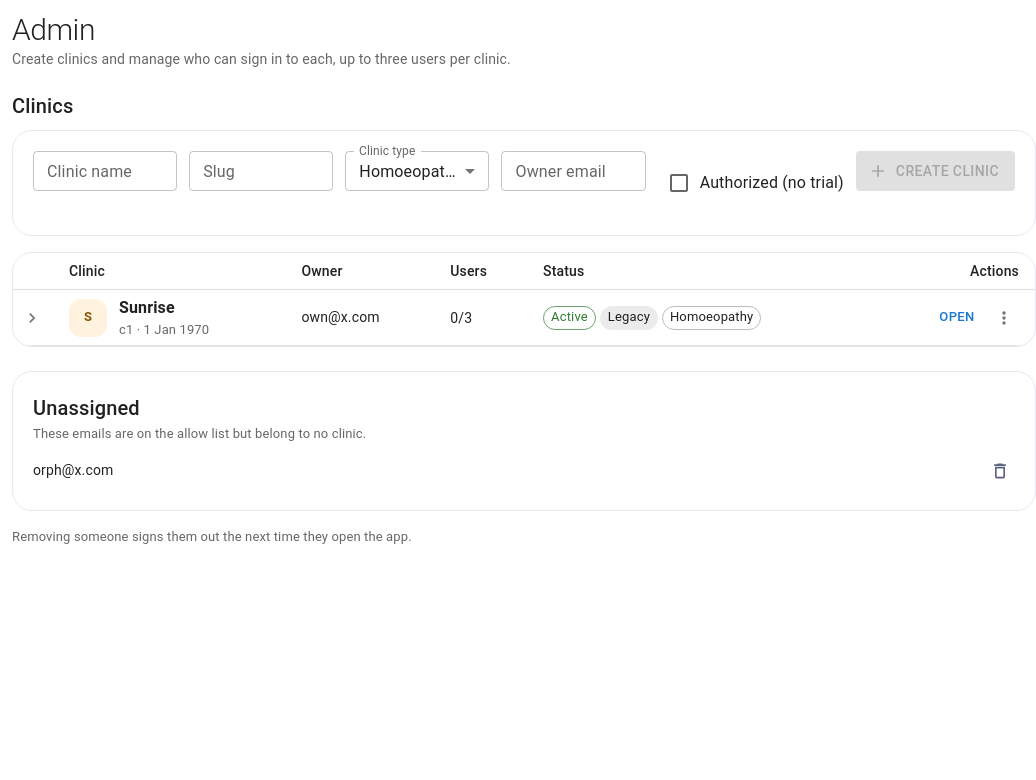
adding an orphan email to a clinic points to Unassigned
The width and height of the screenshot is (1036, 780).
Click the button named "Show users of Sunrise" at x=32, y=318, box [17, 303, 47, 333]
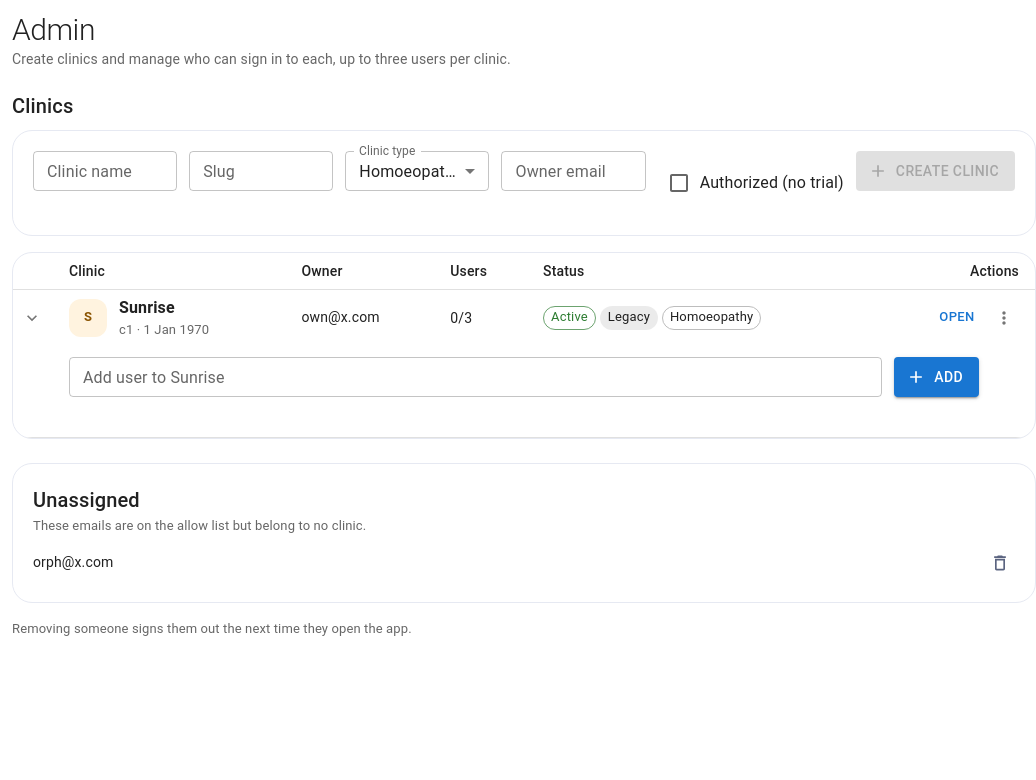
Type "orph@x.com" into the field labelled "Add user to Sunrise" at x=476, y=377, box [69, 357, 882, 397]
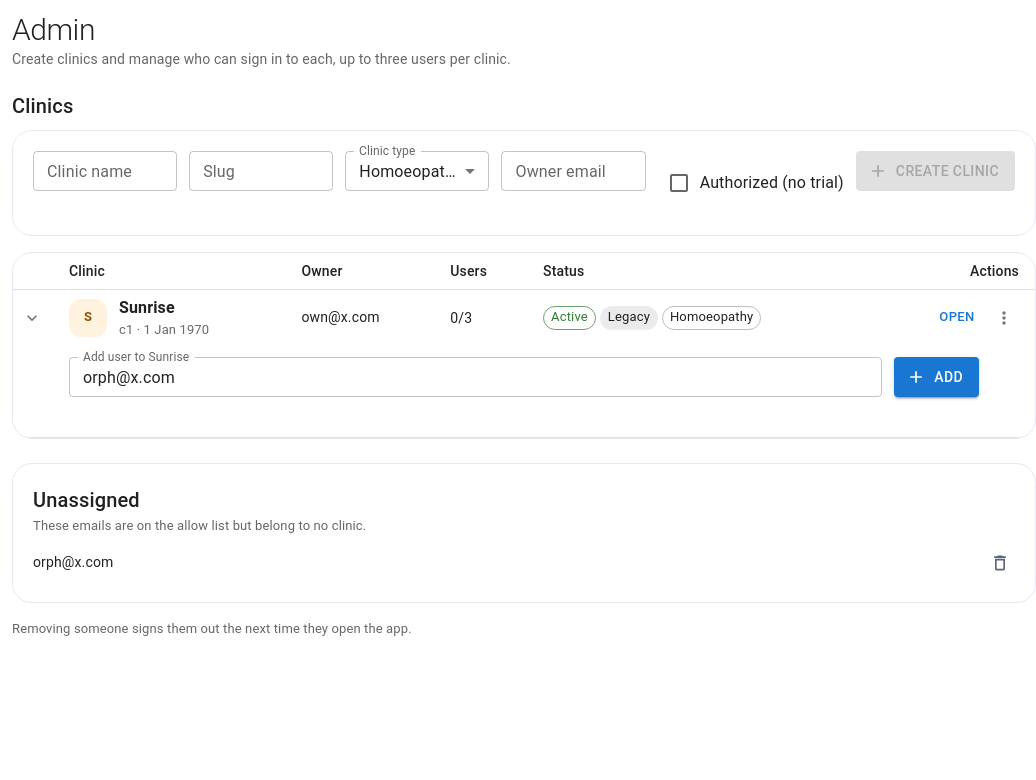
Click the button with aria-label "Add to Sunrise" at x=937, y=377, box [894, 357, 979, 397]
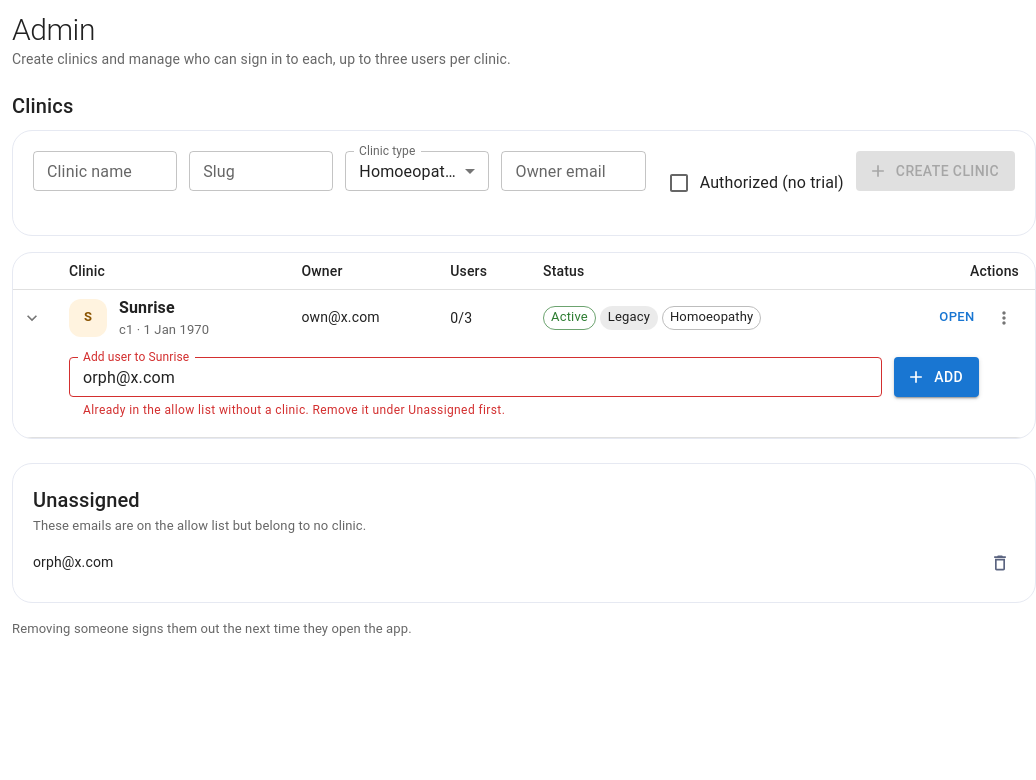
expect the text "Already in the allow list without a clinic. Remove it under Unassigned first." is shown: met, box [83, 403, 505, 417]
